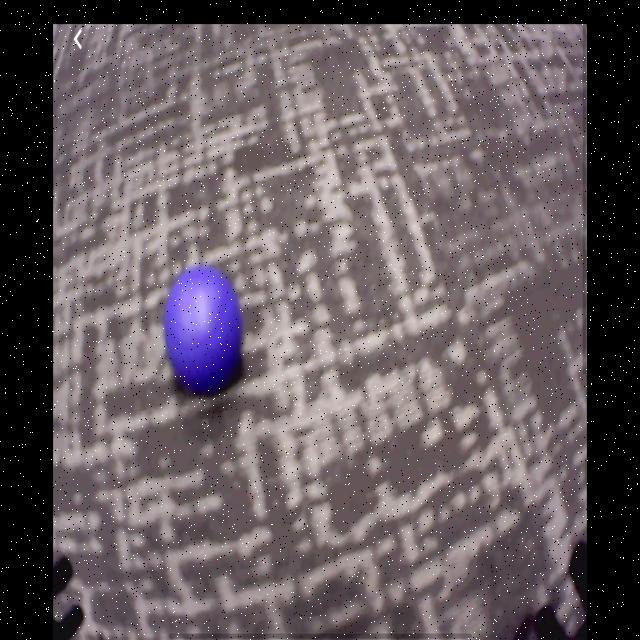ball: (166, 269, 245, 390)
